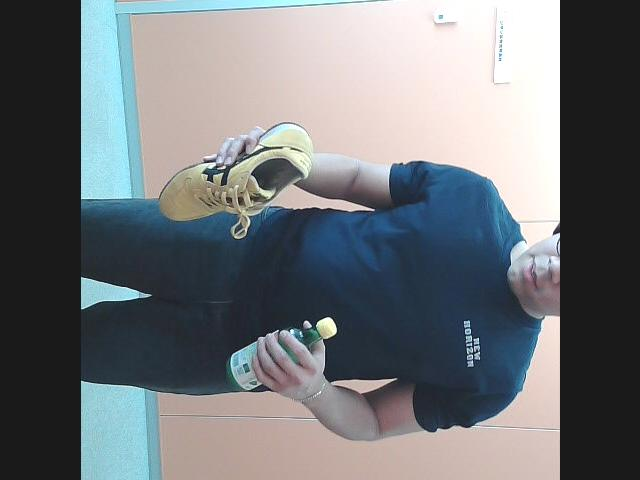Lemon_sapporo: (224, 316, 338, 392)
Shoes: (149, 124, 315, 222)
